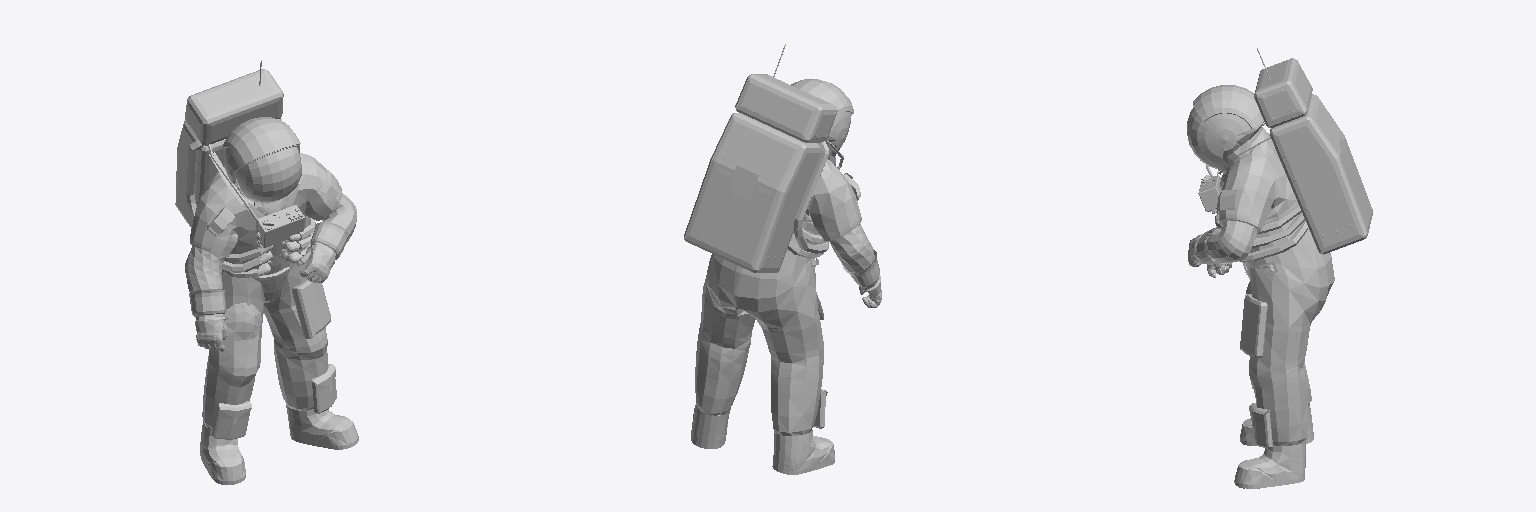
The model's file is Spaceman N200420.obj.
The picture shows the model from 3 angles: view 1: azimuth 30°, elevation 25°; view 2: azimuth 150°, elevation 25°; view 3: azimuth 270°, elevation 25°; orthographic projection.
Visible parts, largest first — view 1: Astronot_Fehmi; view 2: Astronot_Fehmi; view 3: Astronot_Fehmi.
Part boxes in pixels (bbox=[...]): Astronot_Fehmi: bbox=[175, 60, 358, 484]; Astronot_Fehmi: bbox=[684, 44, 881, 474]; Astronot_Fehmi: bbox=[1187, 48, 1372, 488].
Bounding box in the file's own units: 377 × 854 × 352.